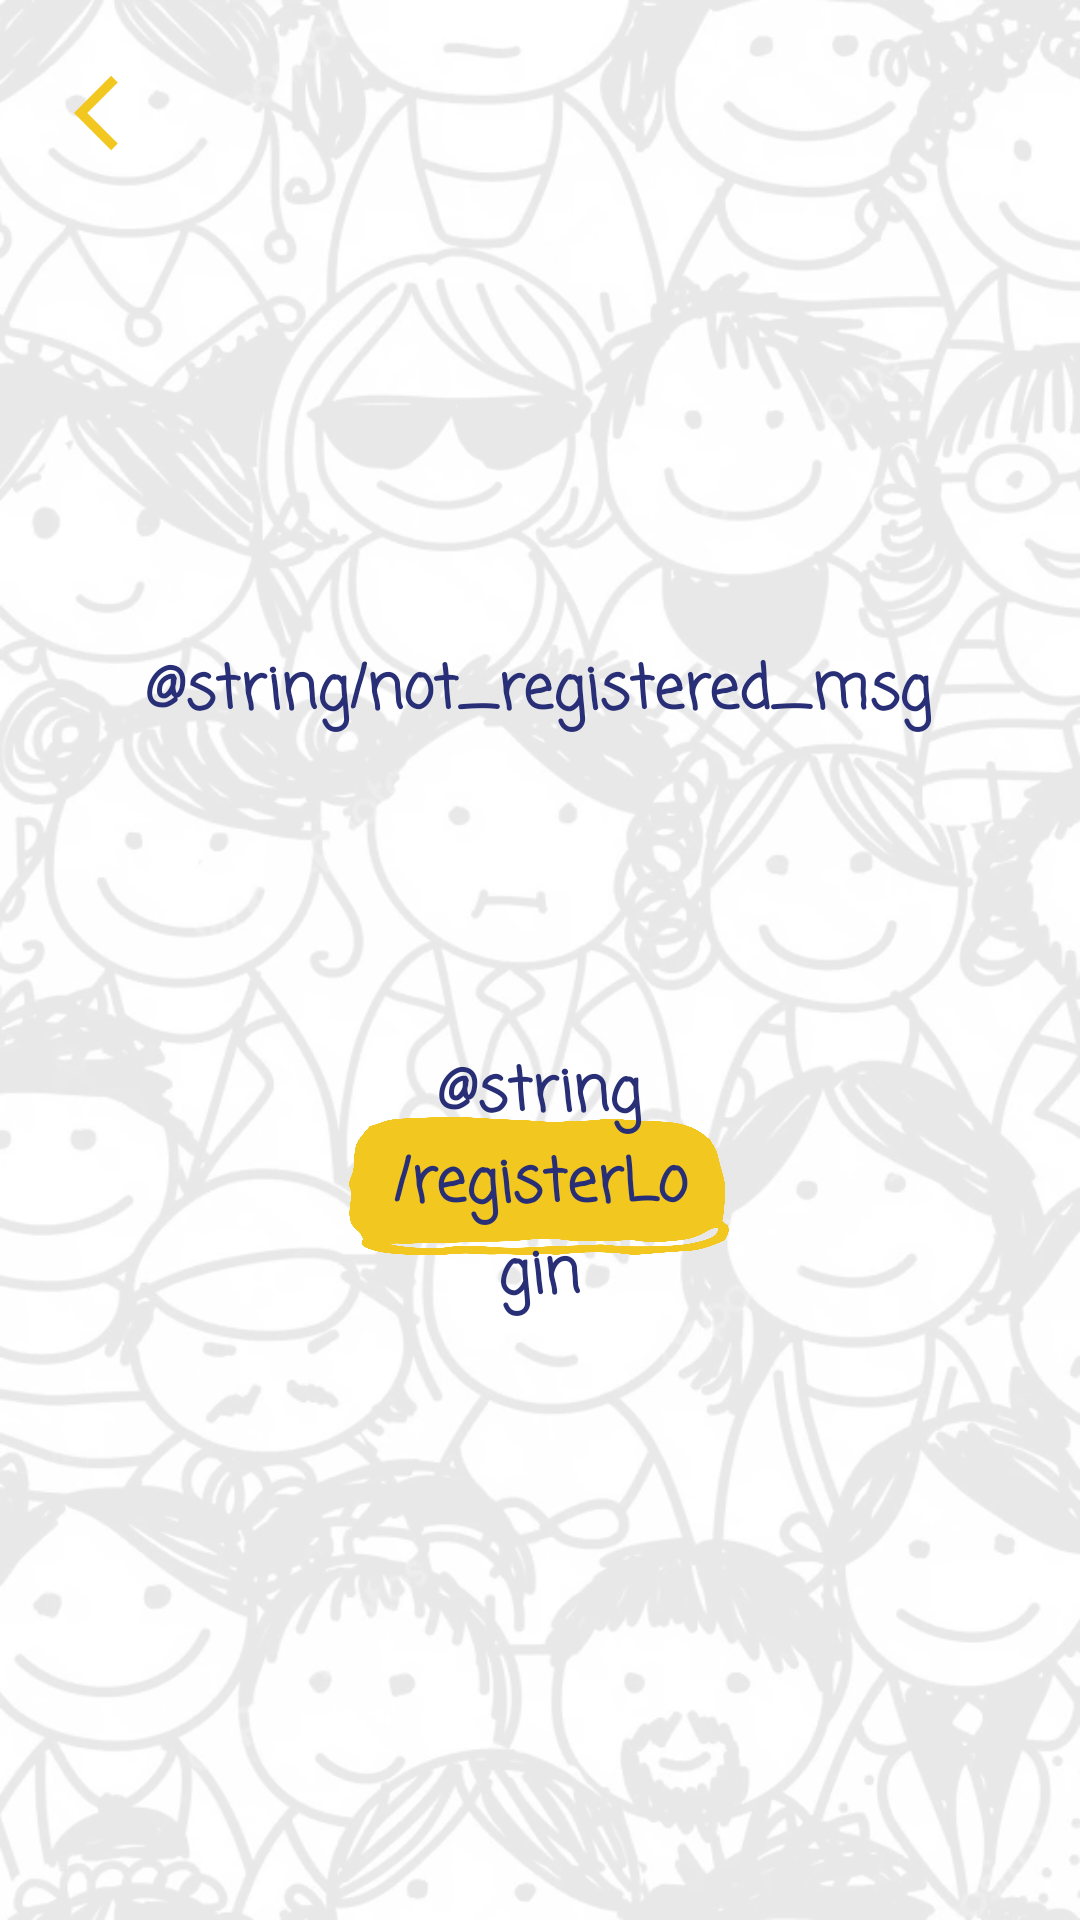

Point at icon controls on the screen. Image size 1080 × 1920, points as (x,y).
backbtn: (96,113)
